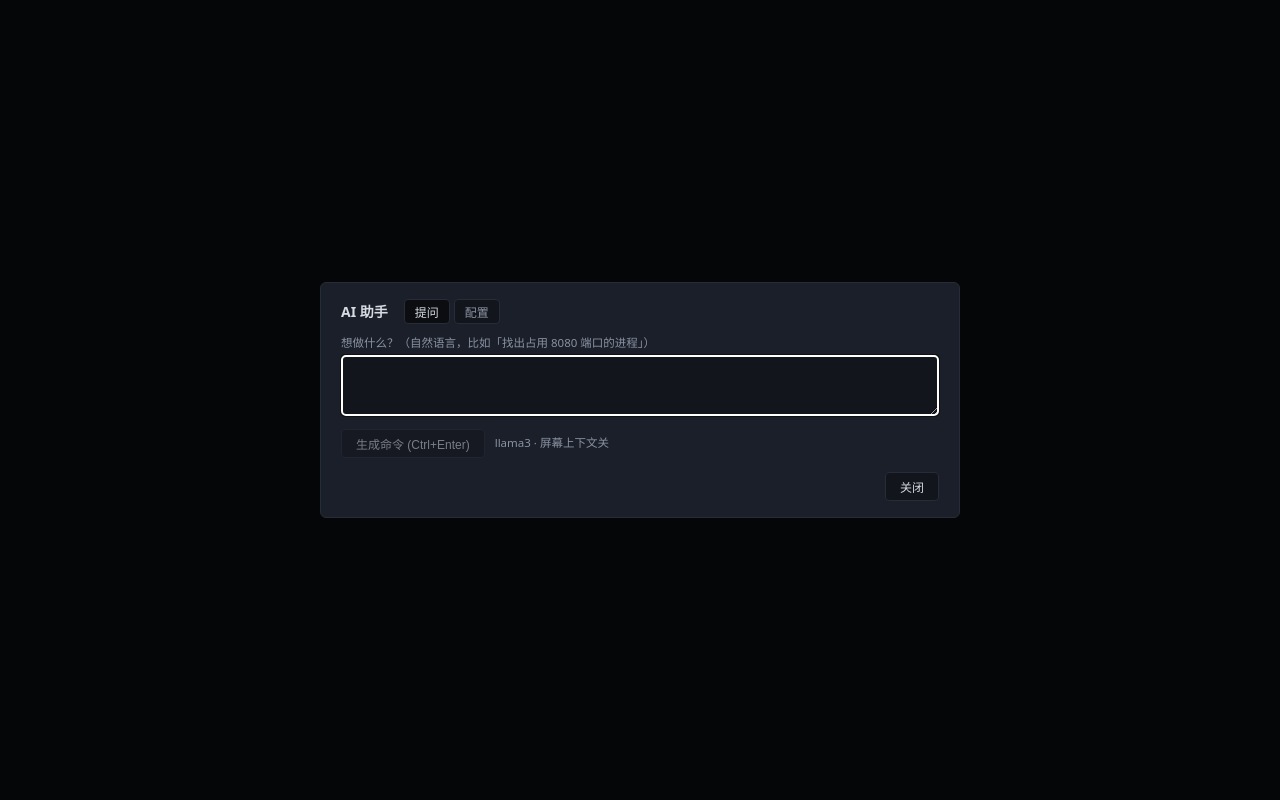
Test case: 总开关（出口第 14 项） › mode=with_confirm 且已配置时两个控件可用（反向对照）
# ai-ask 还受「输入非空」约束，填一下再看
Step 1. Type "看看磁盘" into the text box with test id "ai-prompt" → (640, 386), box [341,355,939,416]
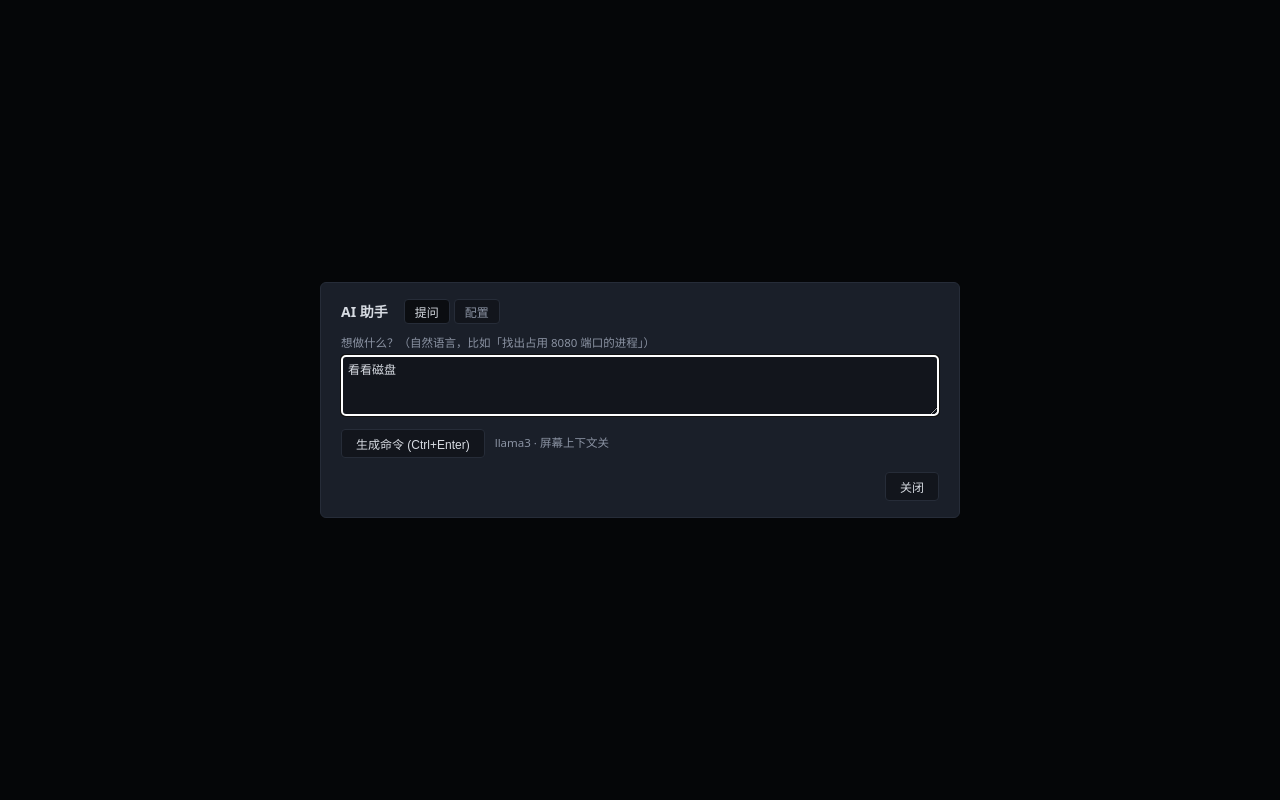
Expected: the button with test id "ai-ask" is enabled, [341,429,485,458]
